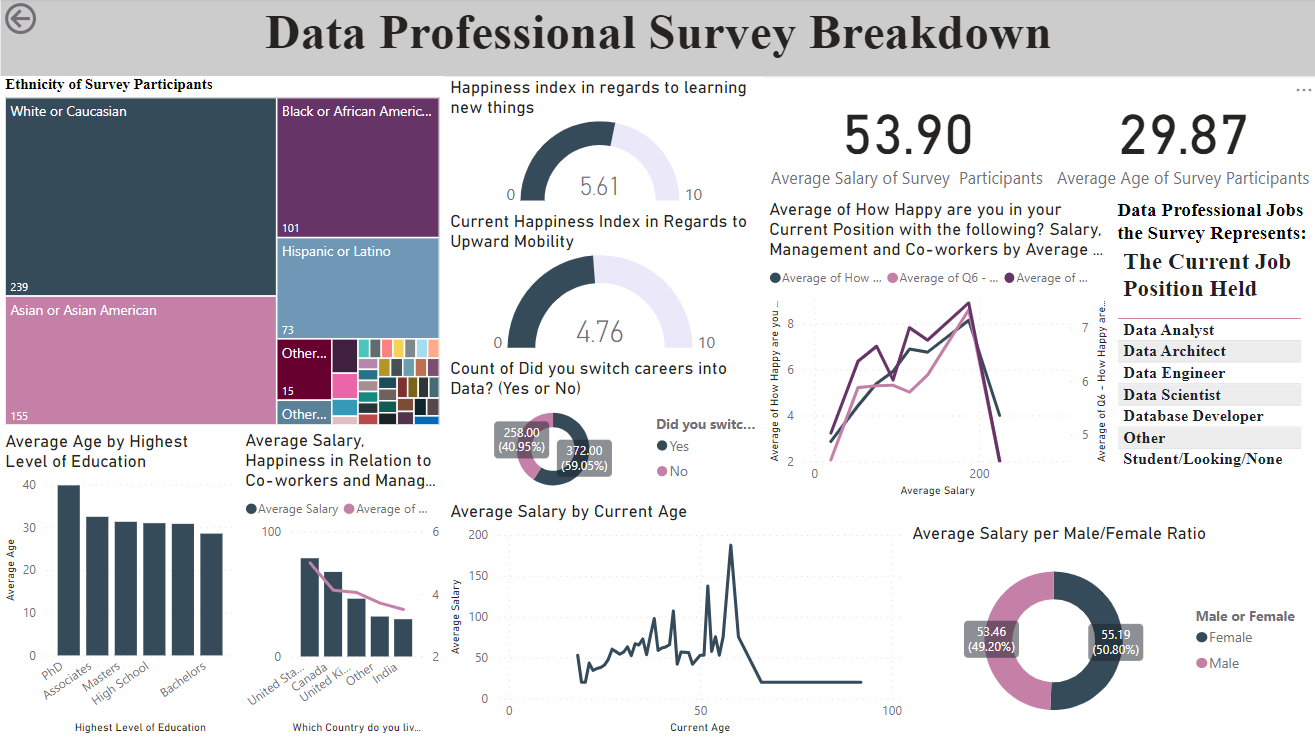

The dashboard page shown, as its layout file describes it:
{"tool":"powerbi","page":{"name":"Page 2","canvas":[1280,720],"ordinal":1},"visuals":[{"type":"card","fields":{"Values":["Avg(Data Professional Survey.Q10 - Current Age)"]},"box":[1020.5,76.8,259.5,118.6],"z":0},{"type":"card","fields":{"Values":["Avg(Data Professional Survey.Average Salary)"]},"box":[742.5,75.8,278,119.5],"z":1000},{"type":"clusteredColumnChart","fields":{"Category":["Data Professional Survey.Q12 - Highest Level of Education"],"Y":["Avg(Data Professional Survey.Q10 - Current Age)"]},"box":[0,420.8,233.3,299.3],"z":2000},{"type":"textbox","box":[0,0,1280,76.8],"z":3000},{"type":"lineChart","fields":{"Y":["Avg(Data Professional Survey.Average Salary)"],"Category":["Data Professional Survey.Q10 - Current Age"]},"box":[432.5,488.9,449,231.3],"z":4000},{"type":"gauge","title":"Happiness index in regards to learning new things","fields":{"Y":["Avg(Data Professional Survey.Q6 - How Happy are you in your Current Position with the following? (Learning New Things))"],"MinValue":["Min(Data Professional Survey.Q6 - How Happy are you in your Current Position with the following? (Learning New Things))"],"MaxValue":["Max(Data Professional Survey.Q6 - How Happy are you in your Current Position with the following? (Learning New Things))"]},"box":[432.5,76.8,310,130.2],"z":5000},{"type":"tableEx","title":"Data Professional Jobs the Survey Represents:","fields":{"Values":["Data Professional Survey.Q1 - Which Title Best Fits your Current Role?.1"]},"box":[1080.8,195.4,199.2,293.5],"z":6000},{"type":"actionButton","box":[0,0,100,40],"z":7000},{"type":"treemap","title":"Ethnicity of Survey Participants","fields":{"Group":["Data Professional Survey.Q13 - Ethnicity"],"Values":["CountNonNull(Data Professional Survey.Q13 - Ethnicity)"]},"box":[0,75.8,432.5,344.1],"z":8000},{"type":"donutChart","title":"Average Salary per Male/Female Ratio","fields":{"Category":["Data Professional Survey.Q9 - Male/Female?"],"Y":["Avg(Data Professional Survey.Average Salary)"]},"box":[881.5,510.3,398.5,209.9],"z":9000},{"type":"donutChart","title":"Count of Did you switch careers into Data?  (Yes or No)","fields":{"Category":["Data Professional Survey.Q2 - Did you switch careers into Data?"],"Y":["CountNonNull(Data Professional Survey.Q2 - Did you switch careers into Data?)"]},"box":[432.5,349.9,310,139],"z":10000},{"type":"gauge","title":"Current Happiness Index in Regards to Upward Mobility","fields":{"Y":["Avg(Data Professional Survey.Q6 - How Happy are you in your Current Position with the following? (Upward Mobility))"],"MinValue":["Min(Data Professional Survey.Q6 - How Happy are you in your Current Position with the following? (Upward Mobility))"],"MaxValue":["Max(Data Professional Survey.Q6 - How Happy are you in your Current Position with the following? (Upward Mobility))"]},"box":[432.5,207,310,142.9],"z":11000},{"type":"lineClusteredColumnComboChart","title":"Average Salary, Happiness in Relation to Co-workers and Management by the Participant''s Country","fields":{"Category":["Data Professional Survey.Q11 - Which Country do you live in?.1"],"Y":["Avg(Data Professional Survey.Average Salary)"],"Y2":["Avg(Data Professional Survey.Q6 - How Happy are you in your Current Position with the following? (Salary))"]},"box":[233.3,419.9,199.2,300.3],"z":12000},{"type":"lineChart","title":"Average of How Happy are you in your Current Position with the following? Salary, Management and Co-workers by Average Salary","fields":{"Category":["Data Professional Survey.Average Salary"],"Y":["Avg(Data Professional Survey.Q6 - How Happy are you in your Current Position with the following? (Salary))"],"Y2":["Avg(Data Professional Survey.Q6 - How Happy are you in your Current Position with the following? (Management))","Avg(Data Professional Survey.Q6 - How Happy are you in your Current Position with the following? (Coworkers))"]},"box":[742.5,195.4,338.2,293.5],"z":13000}]}

Visuals, with their boxes in screenshot pixels (x1, y1, x2, y2), scaled from the page's 1280x720 canvas onto the 1315x739 screenshot:
card - Avg(Data Professional Survey.Q10 - Current Age): bbox=(1048, 79, 1314, 201)
card - Avg(Data Professional Survey.Average Salary): bbox=(763, 78, 1048, 200)
clusteredColumnChart - Data Professional Survey.Q12 - Highest Level of Education x Avg(Data Professional Survey.Q10 - Current Age): bbox=(0, 432, 240, 738)
textbox: bbox=(0, 0, 1314, 79)
lineChart - Avg(Data Professional Survey.Average Salary) x Data Professional Survey.Q10 - Current Age: bbox=(444, 502, 906, 738)
"Happiness index in regards to learning new things" gauge: bbox=(444, 79, 763, 212)
"Data Professional Jobs the Survey Represents:" tableEx: bbox=(1110, 201, 1314, 502)
actionButton: bbox=(0, 0, 103, 41)
"Ethnicity of Survey Participants" treemap: bbox=(0, 78, 444, 431)
"Average Salary per Male/Female Ratio" donutChart: bbox=(906, 524, 1314, 738)
"Count of Did you switch careers into Data?  (Yes or No)" donutChart: bbox=(444, 359, 763, 502)
"Current Happiness Index in Regards to Upward Mobility" gauge: bbox=(444, 212, 763, 359)
"Average Salary, Happiness in Relation to Co-workers and Management by the Participant''s Country" lineClusteredColumnComboChart: bbox=(240, 431, 444, 738)
"Average of How Happy are you in your Current Position with the following? Salary, Management and Co-workers by Average Salary" lineChart: bbox=(763, 201, 1110, 502)
